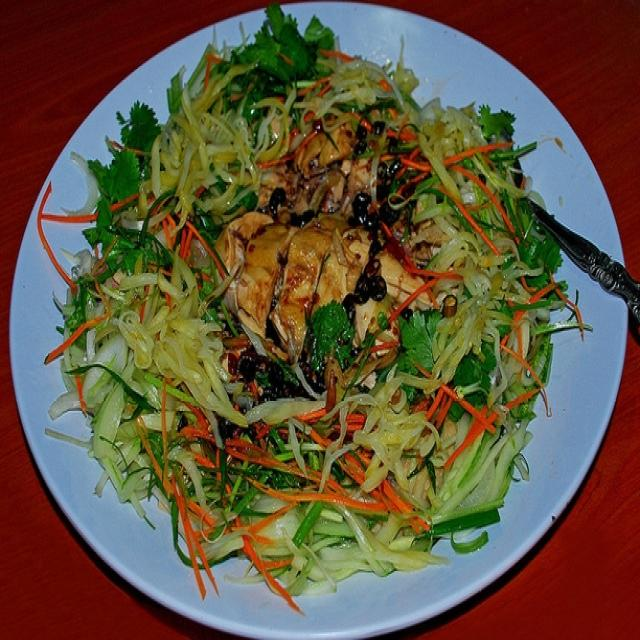鸡肉料理 含炸鸡: (36, 20, 602, 623)
